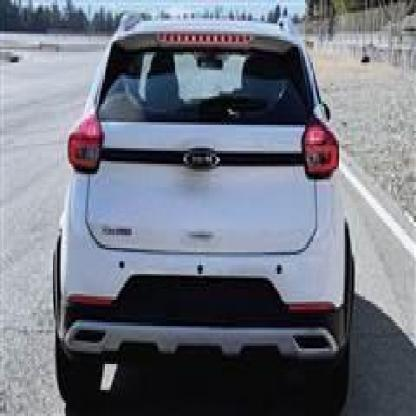Car: (54, 10, 355, 403)
